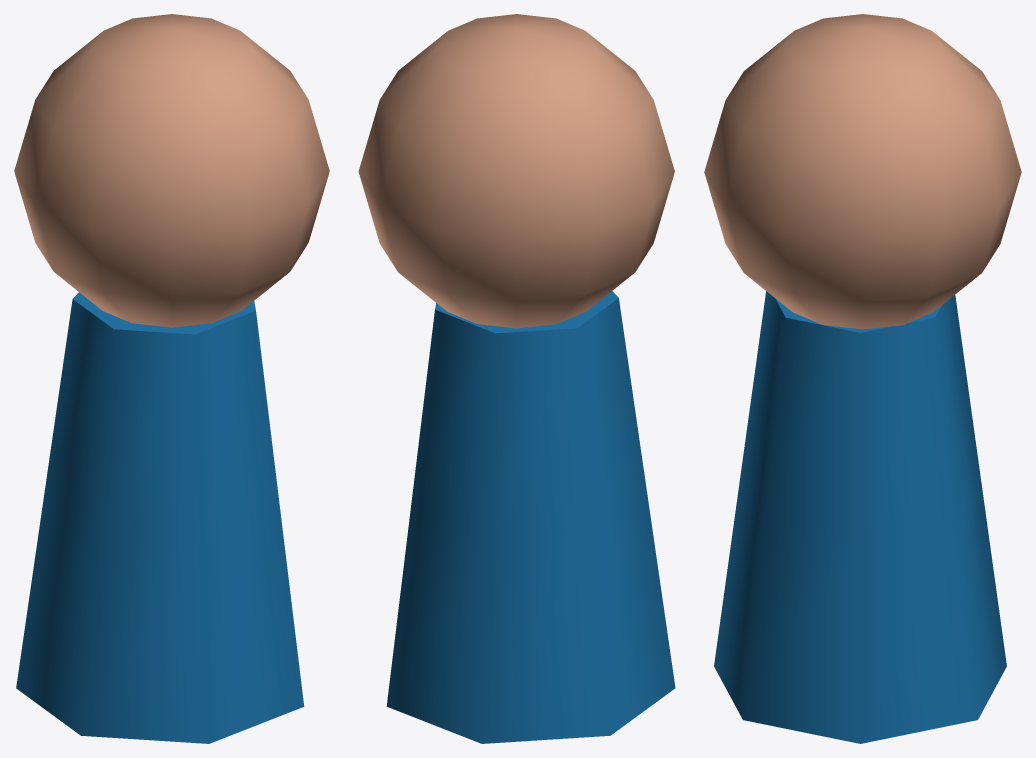
Rendered from people.fbx.
3 renders of one model, left to right at view 1: azimuth 30°, elevation 25°; view 2: azimuth 150°, elevation 25°; view 3: azimuth 270°, elevation 25°, orthographic.
Parts seen in each view (by area): view 1: Cylinder001; view 2: Cylinder001; view 3: Cylinder001.
Part boxes in pixels (bbox=[...]): Cylinder001: bbox=[14, 14, 329, 743]; Cylinder001: bbox=[358, 14, 675, 743]; Cylinder001: bbox=[704, 14, 1021, 743].
Bounding box in the file's own units: 17.94 × 40.91 × 17.94.
